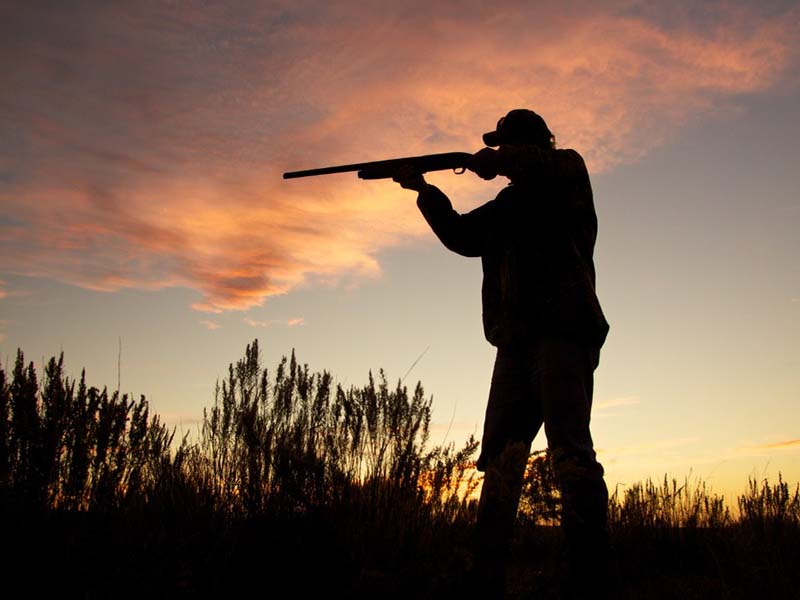cacciatore: (414, 101, 640, 589)
fucile: (271, 133, 500, 210)
